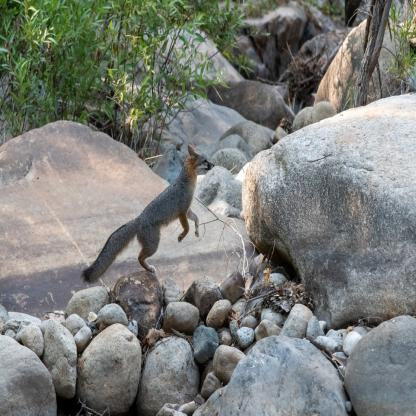zorro: (76, 137, 216, 295)
